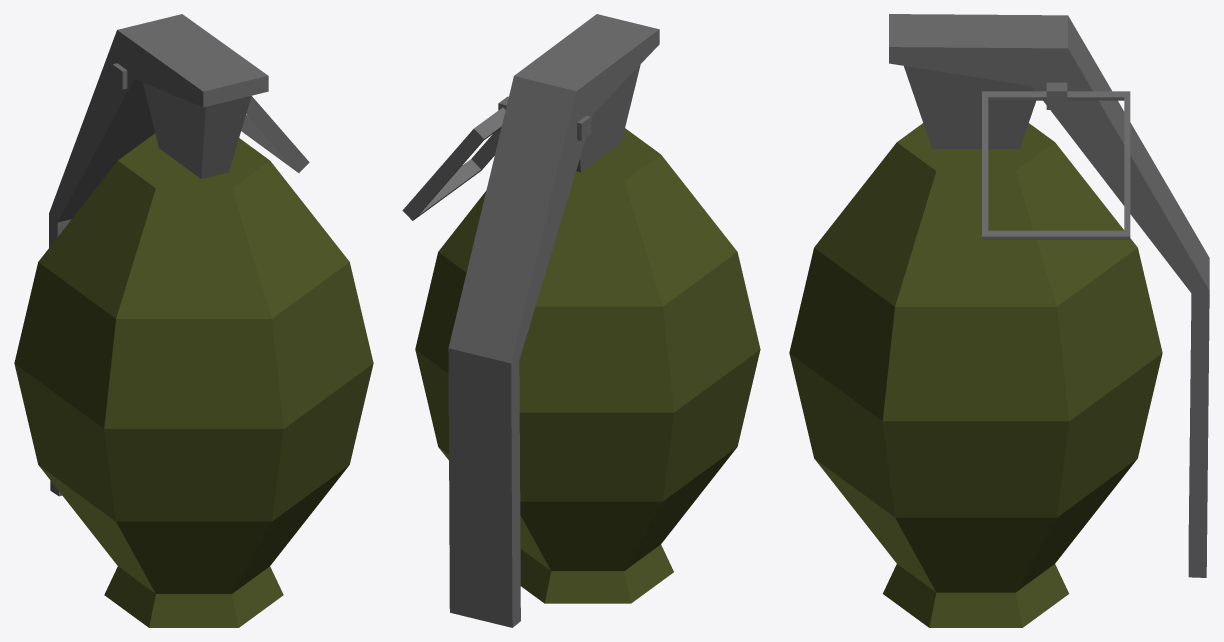
File: Grenade_Frag_M26.fbx
3 views of the same model, side by side, from view 1: azimuth 30°, elevation 25°; view 2: azimuth 150°, elevation 25°; view 3: azimuth 270°, elevation 25° (orthographic). The views are drawn at different scales.
Parts seen in each view (by area): view 1: Grenade_Frag_M26; view 2: Grenade_Frag_M26; view 3: Grenade_Frag_M26.
Boxes of the visible parts, left/top/right/bottom form: Grenade_Frag_M26: left=14, top=14, right=373, bottom=627; Grenade_Frag_M26: left=402, top=14, right=760, bottom=627; Grenade_Frag_M26: left=789, top=14, right=1209, bottom=627.
Size of the model in its own units: 5.57 by 10.7 by 7.24.
